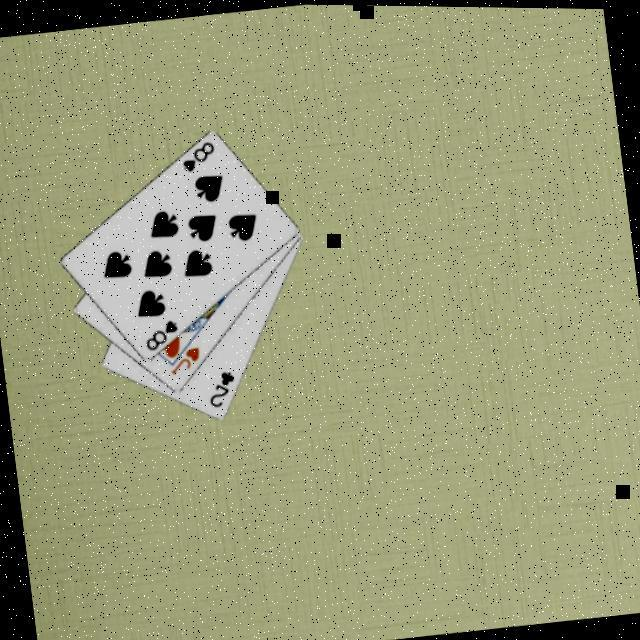2C: (205, 368, 242, 412)
8S: (141, 316, 185, 356), (179, 139, 222, 177)
JH: (167, 344, 206, 378)
